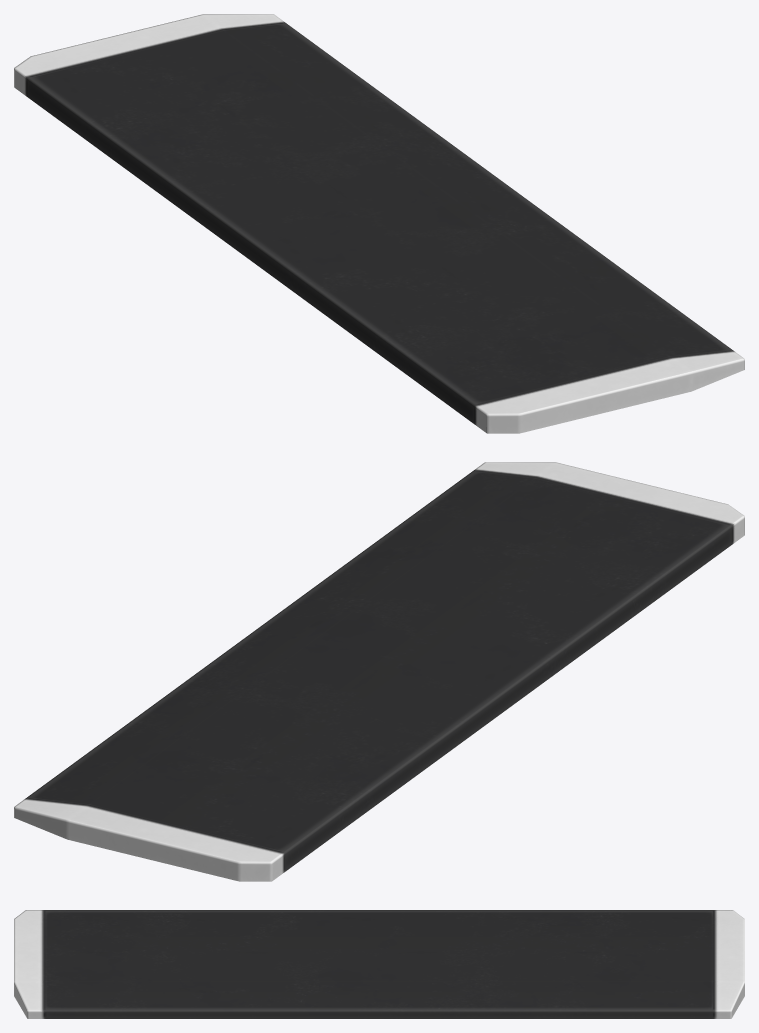
The model's file is SM_LabDisplay01_3.FBX.
The picture shows the model from 3 angles, top to bottom: view 1: azimuth 30°, elevation 25°; view 2: azimuth 150°, elevation 25°; view 3: azimuth 270°, elevation 25°; orthographic projection. The views are drawn at different scales.
Parts seen in each view (by area): view 1: SM_LabDisplay01_3; view 2: SM_LabDisplay01_3; view 3: SM_LabDisplay01_3.
Boxes of the visible parts, left/top/right/bottom form: SM_LabDisplay01_3: left=14, top=14, right=744, bottom=433; SM_LabDisplay01_3: left=14, top=462, right=744, bottom=881; SM_LabDisplay01_3: left=14, top=910, right=744, bottom=1018.
Size of what is drawn, in the model's own units: 19.69 by 64.44 by 1.4.
